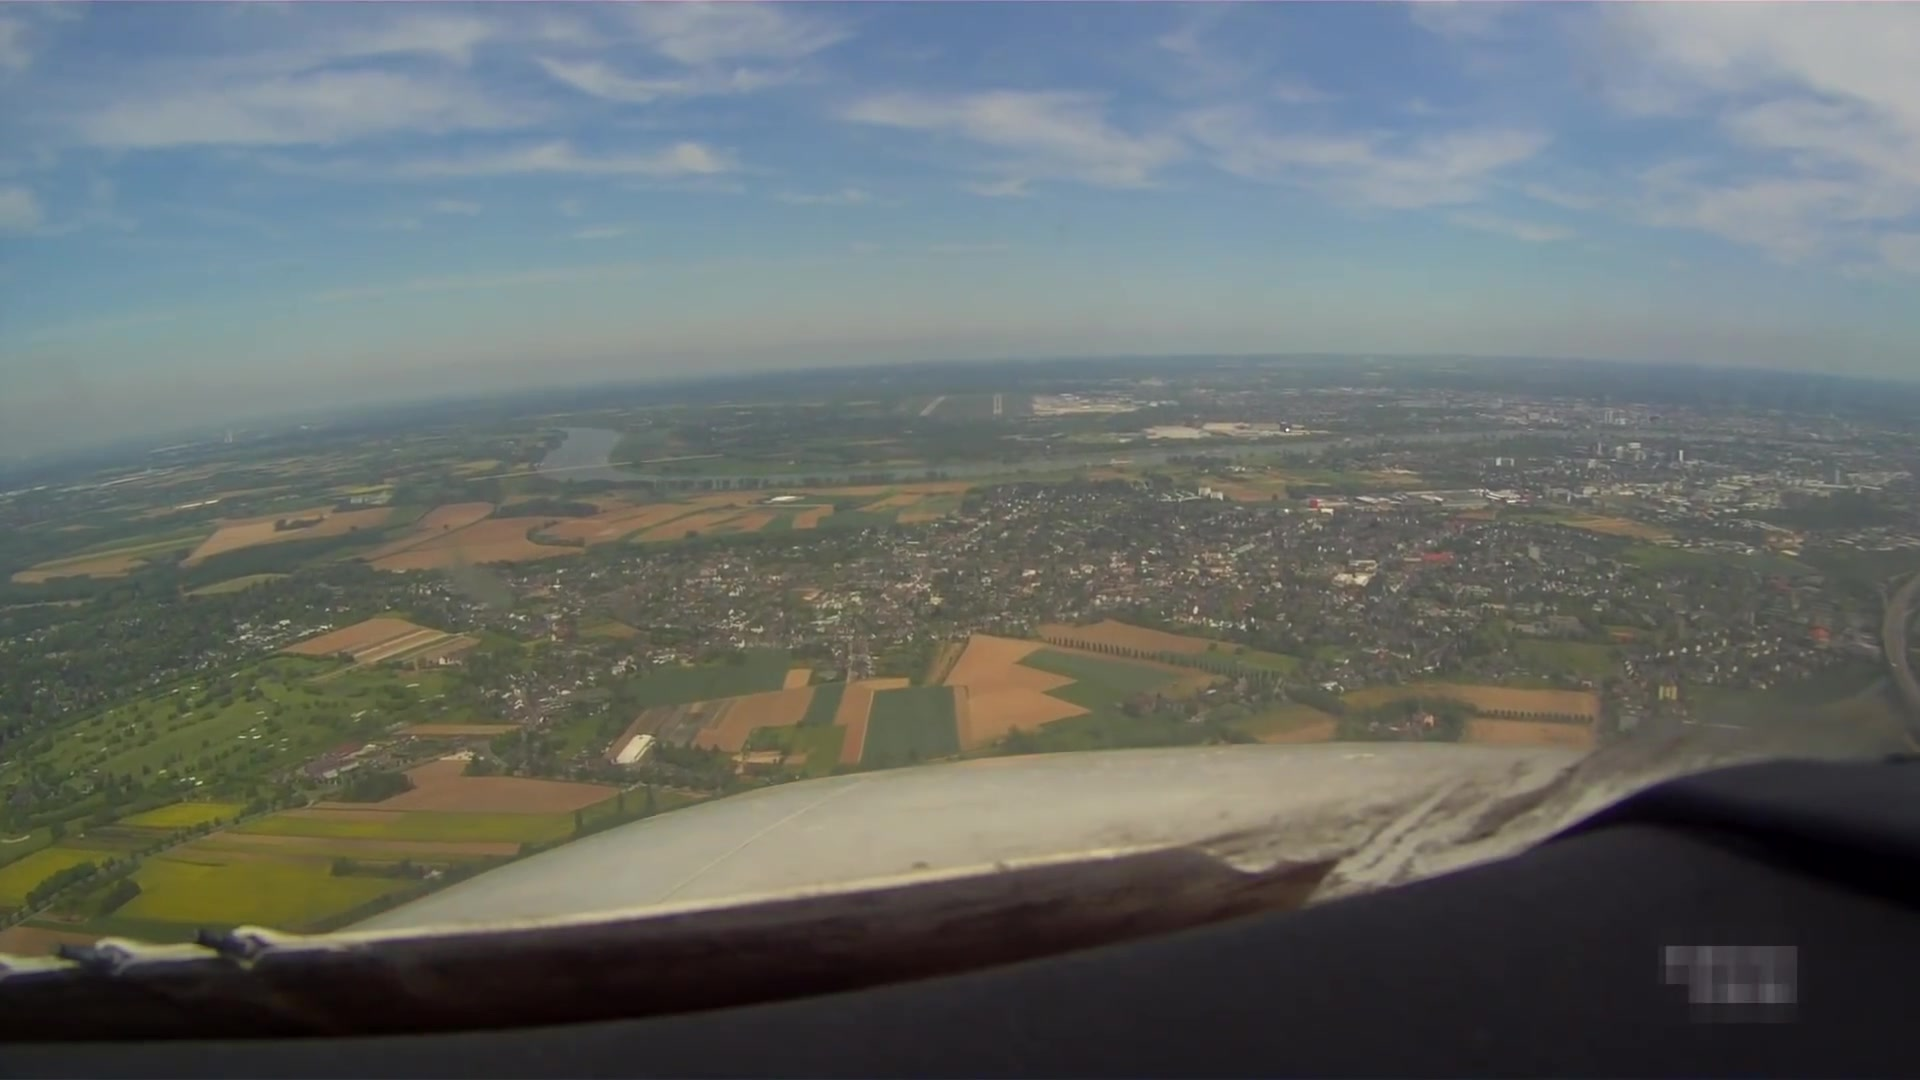runway: (918, 396, 947, 417), (992, 392, 1004, 415)
